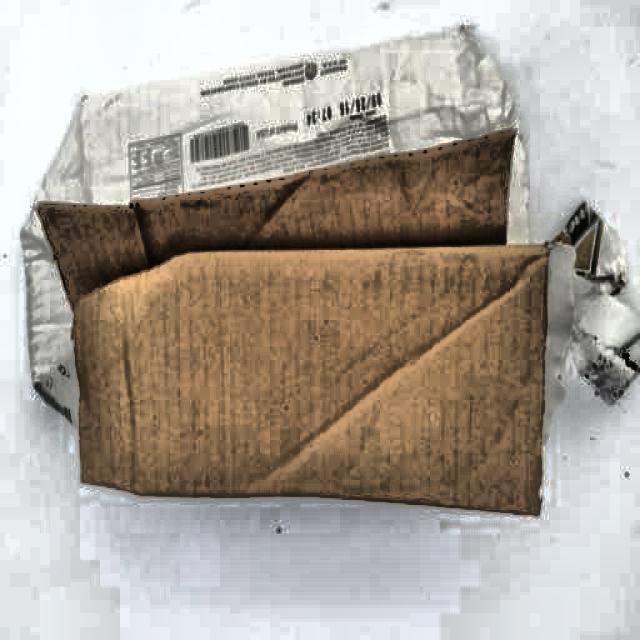cardboard: (40, 66, 573, 533)
